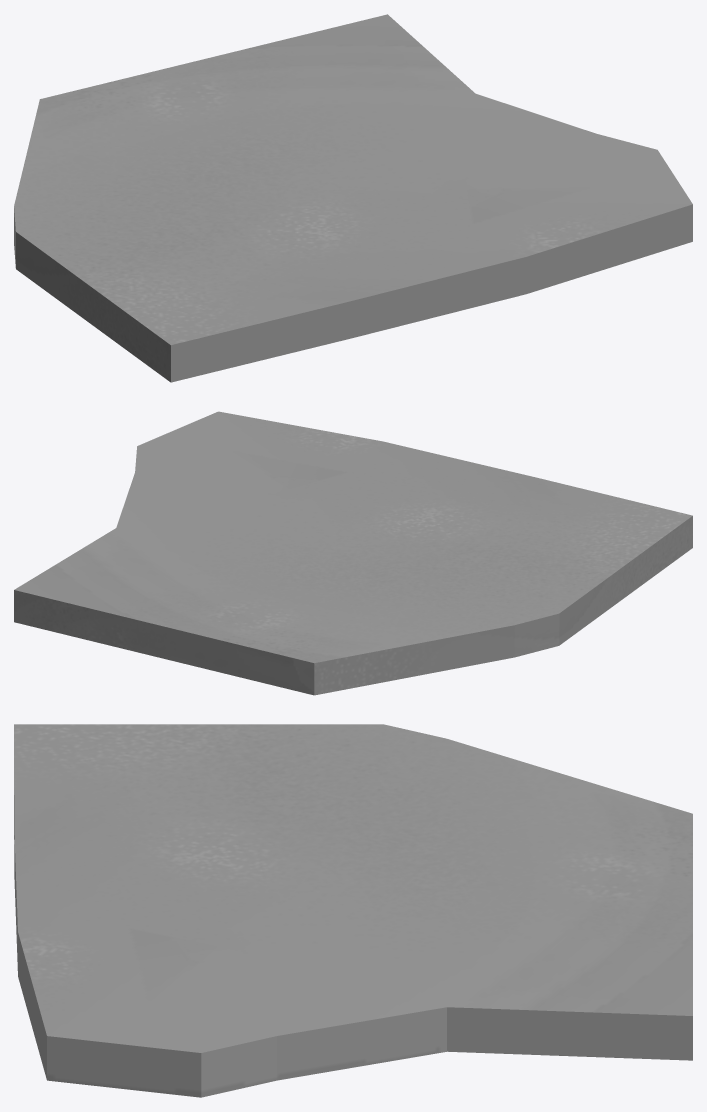
The model's file is Rock_tile_1.003.fbx.
3 views of the same model, one above another, from view 1: azimuth 30°, elevation 25°; view 2: azimuth 150°, elevation 25°; view 3: azimuth 270°, elevation 25° (orthographic). The views are drawn at different scales.
Parts seen in each view (by area): view 1: Rock_tile_1.003; view 2: Rock_tile_1.003; view 3: Rock_tile_1.003.
Boxes of the visible parts, left/top/right/bottom form: Rock_tile_1.003: left=14, top=14, right=692, bottom=382; Rock_tile_1.003: left=14, top=411, right=692, bottom=695; Rock_tile_1.003: left=14, top=724, right=692, bottom=1097.
Size of the model in its own units: 0.3956 by 0.025 by 0.3452.
